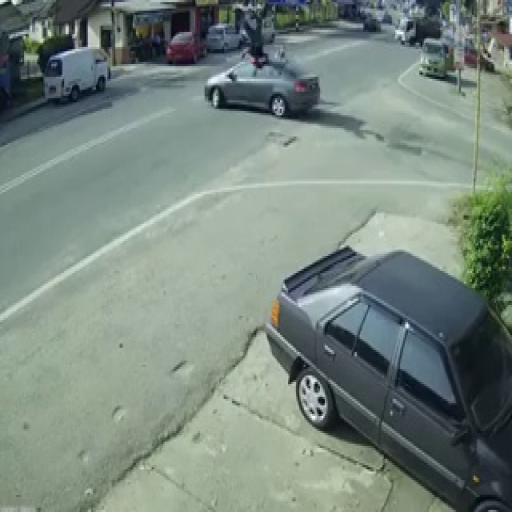Car: (280, 244, 512, 497), (206, 62, 318, 117), (46, 51, 107, 93), (165, 30, 204, 60), (418, 40, 445, 79), (399, 16, 438, 42), (206, 26, 240, 50), (362, 15, 382, 38)
Minor Accident: (222, 19, 305, 114)
Motor: (238, 14, 271, 69)
